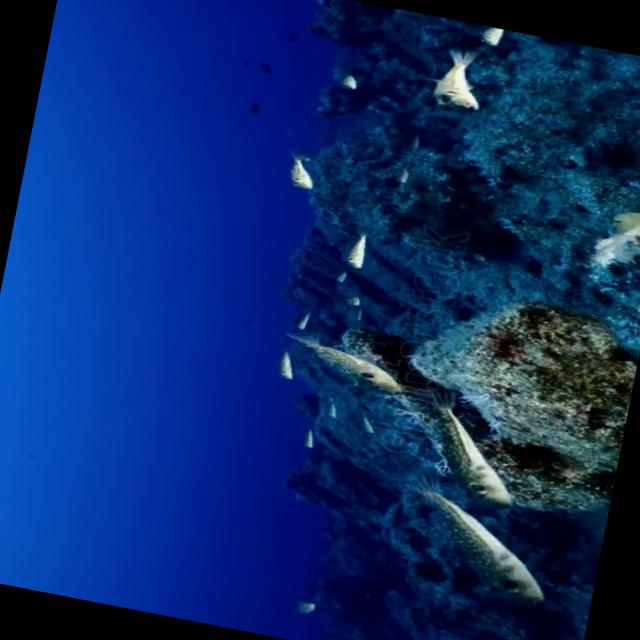Balon Baligi: (406, 491, 552, 600), (407, 387, 520, 502), (276, 331, 408, 397), (424, 38, 492, 117), (276, 154, 326, 198), (337, 232, 377, 276)
